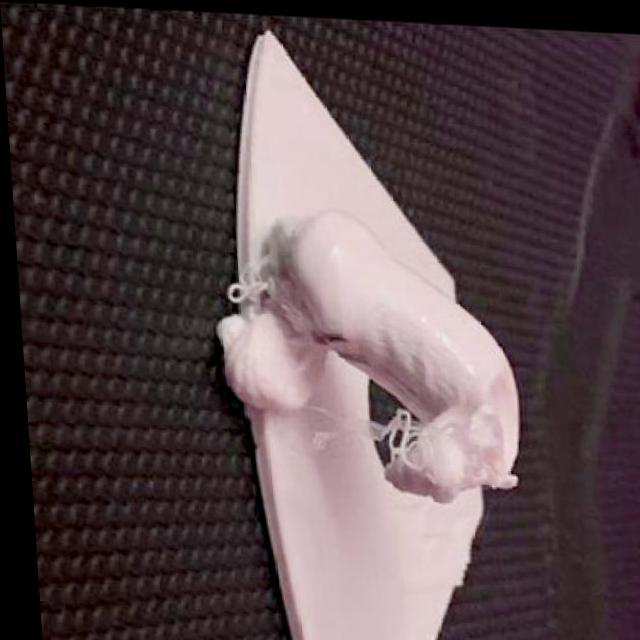spaghetti: (302, 399, 425, 466), (266, 273, 316, 334), (222, 260, 268, 302)
